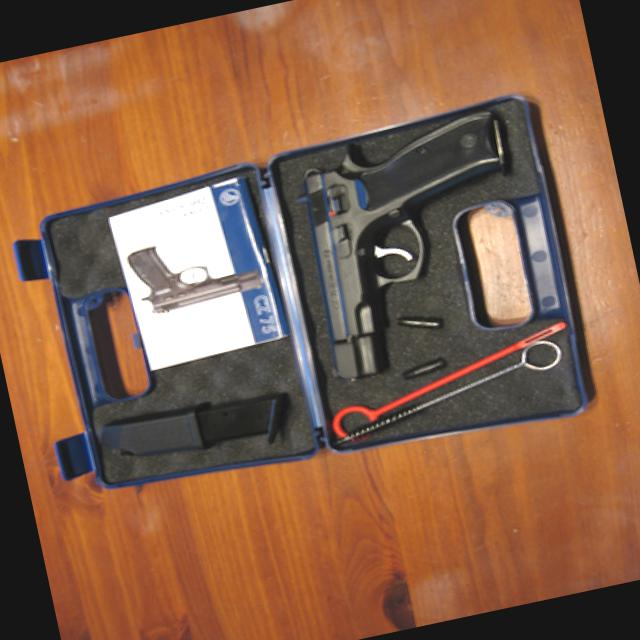handgun: (286, 108, 546, 387), (126, 224, 264, 319)
